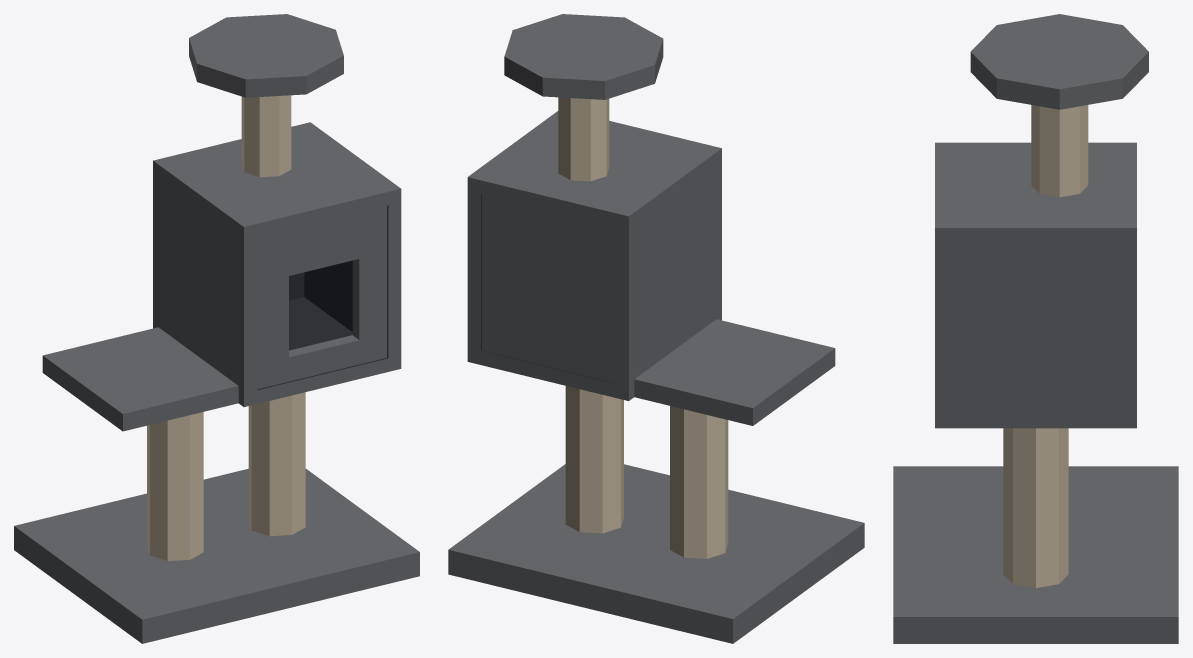
File: FN_Tree_Cat.glb
3 renders of one model, left to right at view 1: azimuth 30°, elevation 25°; view 2: azimuth 150°, elevation 25°; view 3: azimuth 270°, elevation 25°, orthographic. The views are drawn at different scales.
Parts seen in each view (by area): view 1: FN_Tree_Cat; view 2: FN_Tree_Cat; view 3: FN_Tree_Cat.
Part boxes in pixels (<box>): FN_Tree_Cat: <box>14,14,419,643</box>; FN_Tree_Cat: <box>448,14,864,643</box>; FN_Tree_Cat: <box>893,14,1178,643</box>.
Size of the model in its own units: 0.6 by 1.02 by 0.48.
1 material, 1 textured.
